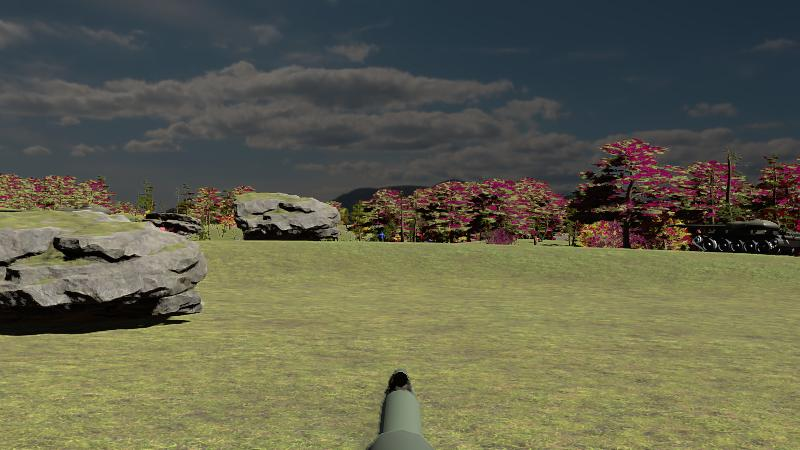Tank: (668, 219, 800, 256)
